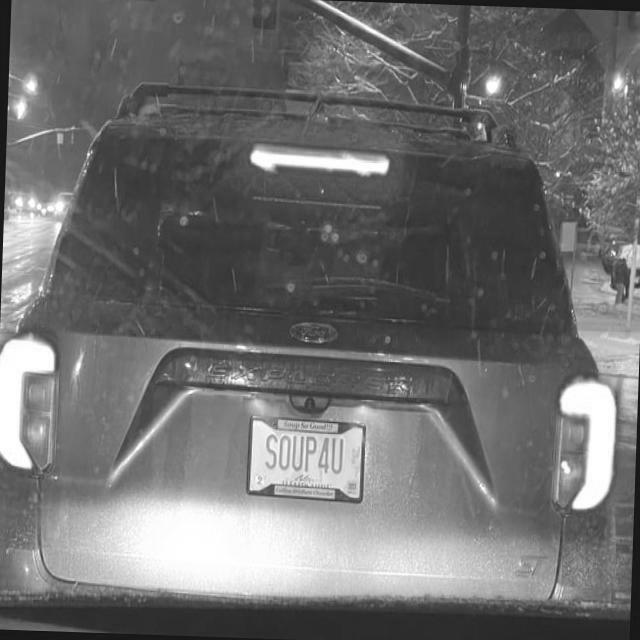LicensePlate: (246, 414, 365, 505)
